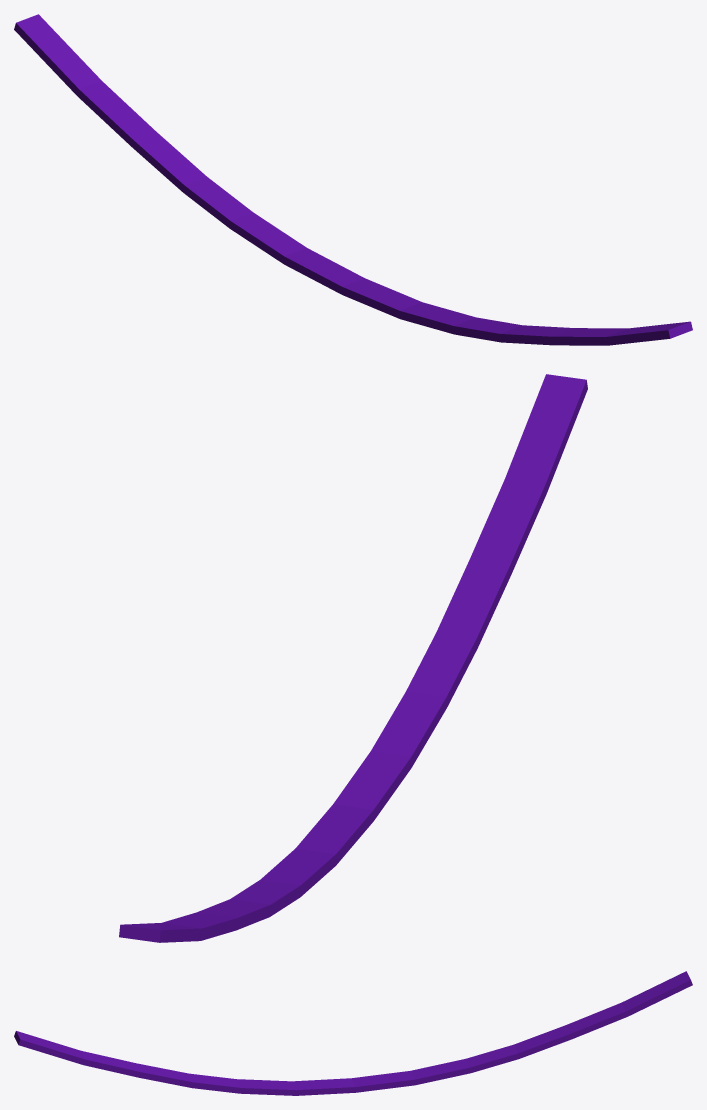
File: Tape_21.fbx
The picture shows the model from 3 angles, top to bottom: view 1: azimuth 30°, elevation 25°; view 2: azimuth 150°, elevation 25°; view 3: azimuth 270°, elevation 25°; orthographic projection. The views are drawn at different scales.
Visible parts, largest first — view 1: Tape_21; view 2: Tape_21; view 3: Tape_21.
Boxes of the visible parts, <box> form: Tape_21: <box>14,14,692,345</box>; Tape_21: <box>119,374,587,942</box>; Tape_21: <box>14,971,692,1095</box>.
Size of the model in its own units: 184 by 103 by 765.
